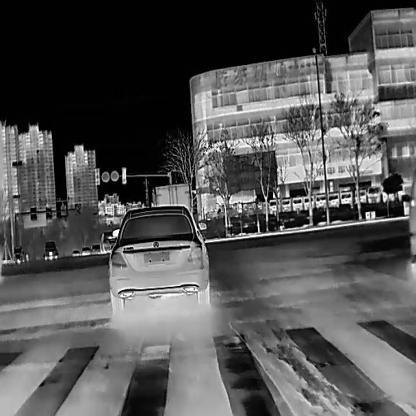car: (108, 203, 210, 311), (152, 180, 191, 221), (99, 229, 119, 254), (43, 240, 58, 259), (90, 242, 101, 254), (80, 245, 91, 256), (71, 249, 80, 256)
